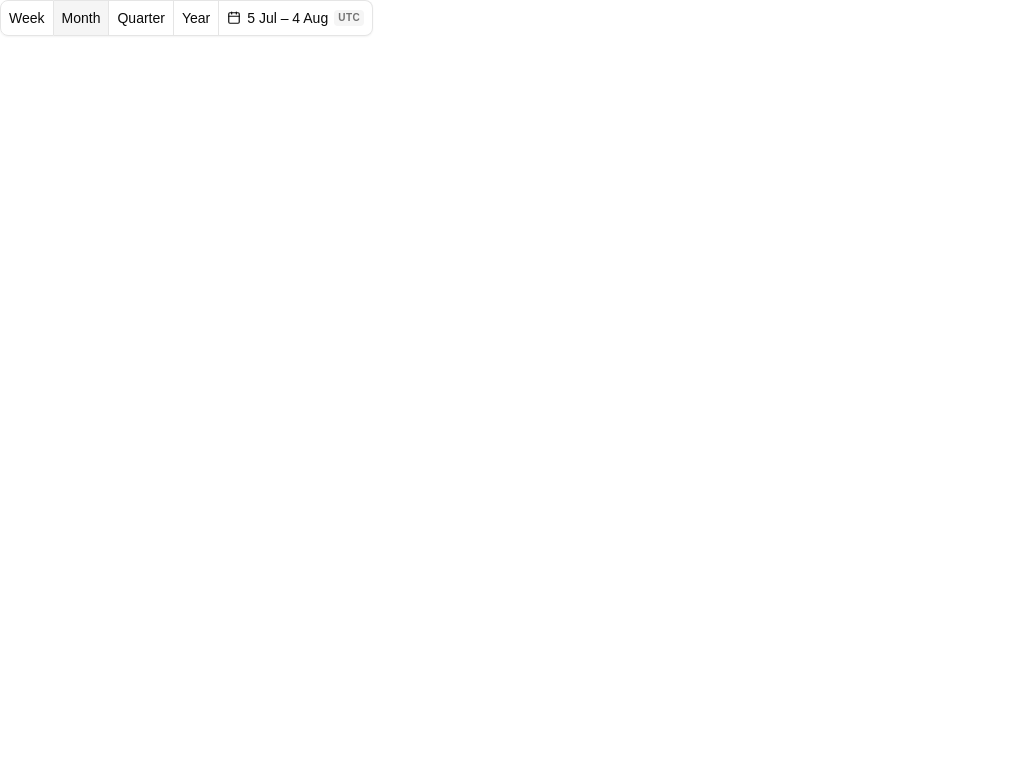
Test case: <PeriodSelectorBar> › hides Clear when no custom range is active
Without a custom range the trigger carries the resolved period range.
Click the button "5 Jul – 4 Aug UTC".
click(296, 18)  # box [219,0,373,36]
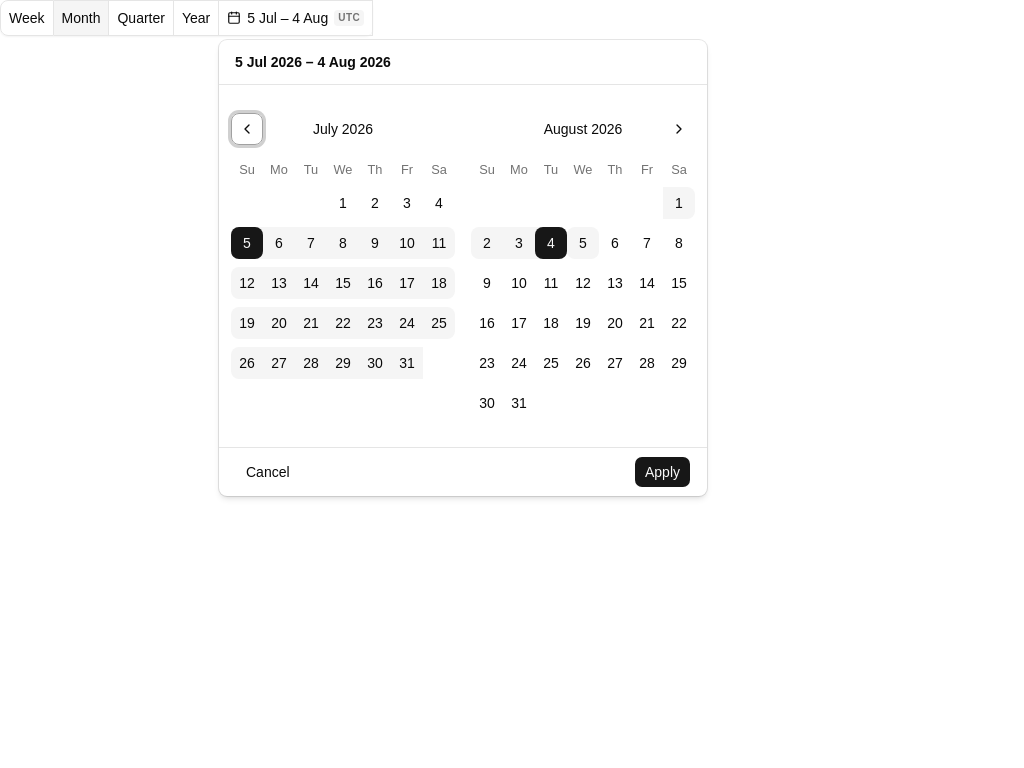
Result: the button "Apply" is shown at [634,456,691,488]
